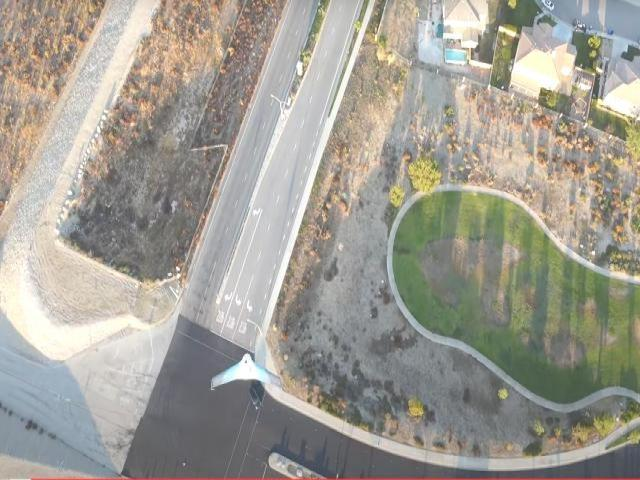iha: (209, 352, 277, 390)
